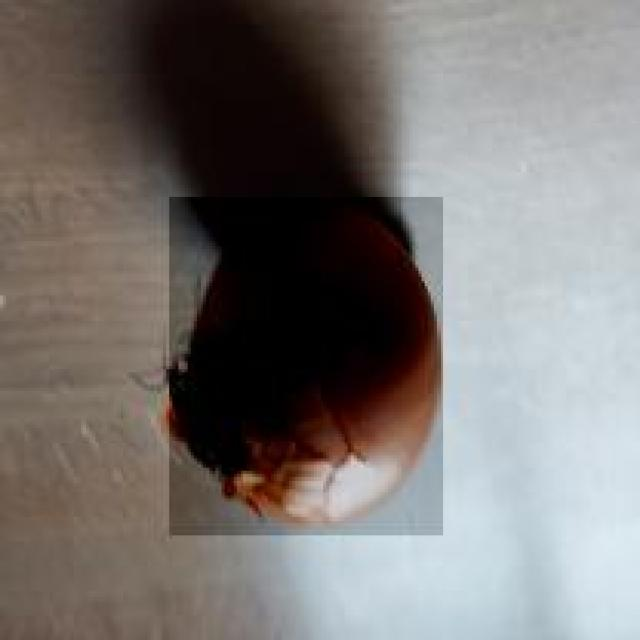onion: (169, 194, 446, 535)
